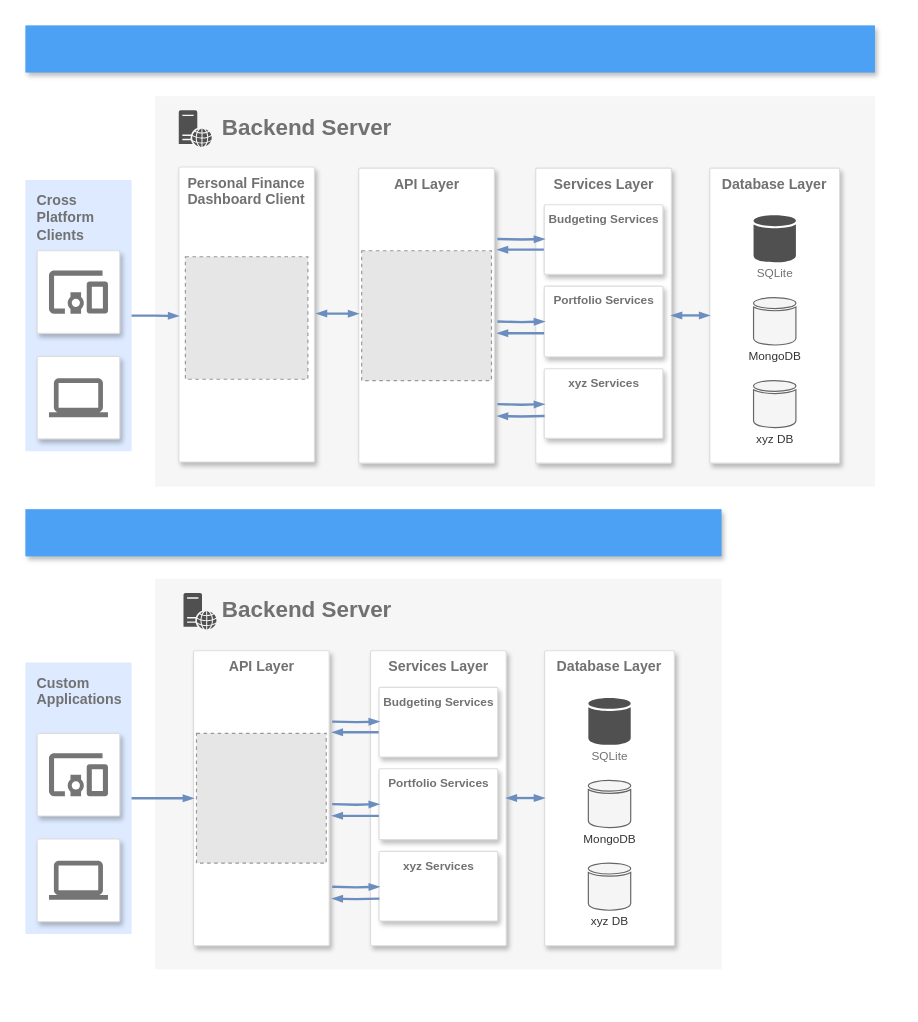
Some shapes in this 918 by 1022 pixel diagram are drawn without their labels. Grey dashed boxes stand in for pictures. The centre of each missing label's shape, as x and y in pixels:
"Application Architecture: Custom Applications" belongs at point (374, 534).
"Application Architecture: Native Client" belongs at point (450, 50).
